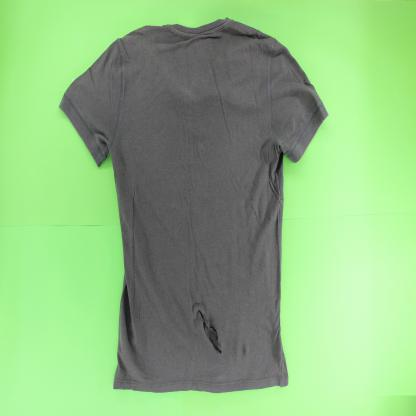hole: (200, 317, 224, 357)
